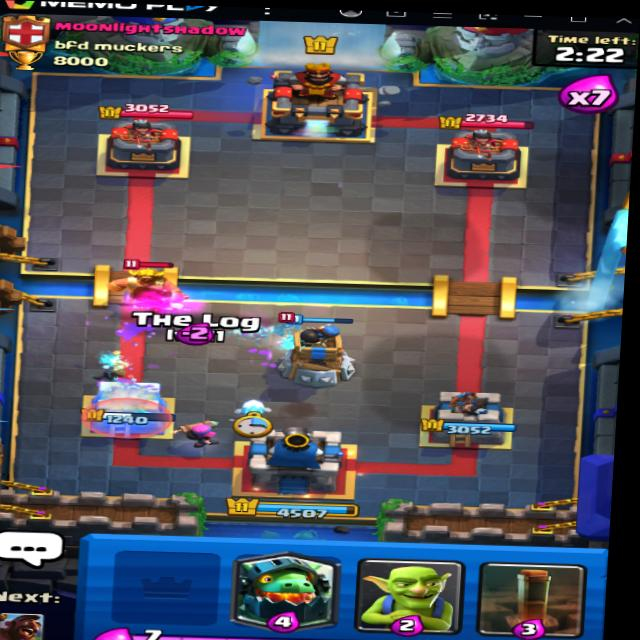golden-knight: (105, 256, 202, 307)
